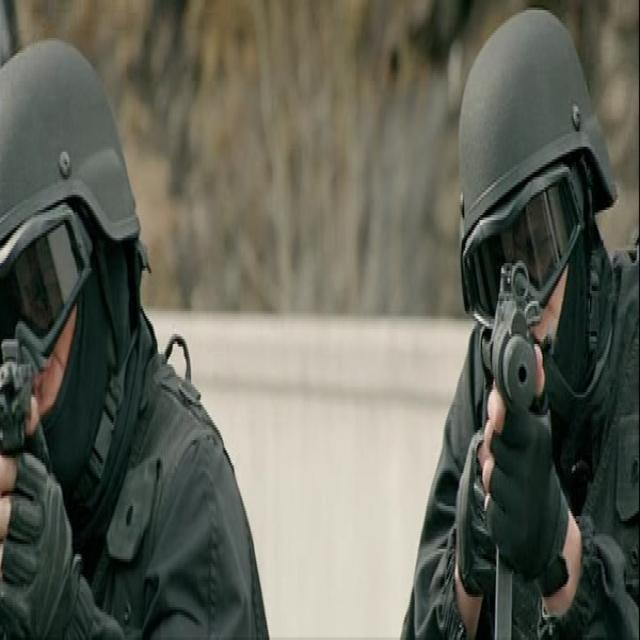rifle: (472, 251, 543, 640)
